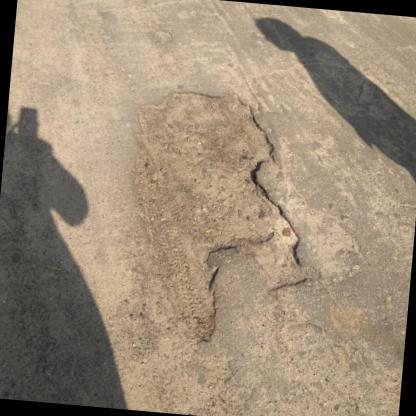pothole: (114, 80, 337, 353)
